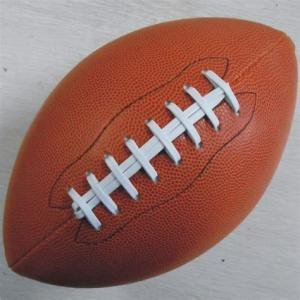Rugby: (3, 17, 299, 288)
